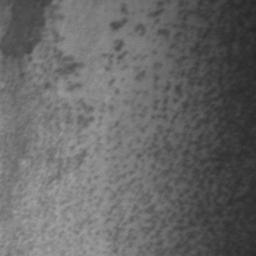Pitted surface: (0, 0, 256, 256), (0, 227, 33, 256)
